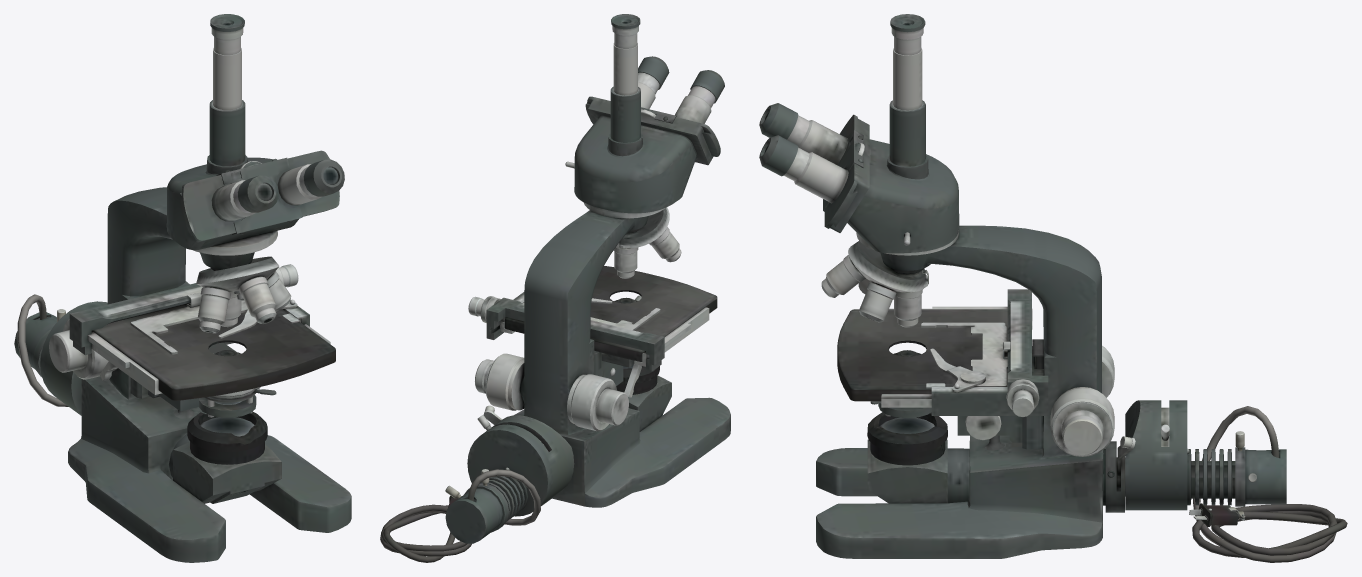
File: microscope.glb
The picture shows the model from 3 angles, left to right: view 1: azimuth 30°, elevation 25°; view 2: azimuth 150°, elevation 25°; view 3: azimuth 270°, elevation 25°; orthographic projection. The views are drawn at different scales.
Visible parts, largest first — view 1: industrial_microscope, industrial_microscope_cable; view 2: industrial_microscope, industrial_microscope_cable; view 3: industrial_microscope, industrial_microscope_cable.
Boxes of the visible parts, left/top/right/bottom form: industrial_microscope: left=14, top=14, right=351, bottom=562; industrial_microscope_cable: left=17, top=294, right=68, bottom=406; industrial_microscope: left=445, top=14, right=730, bottom=543; industrial_microscope_cable: left=380, top=469, right=540, bottom=562; industrial_microscope: left=759, top=14, right=1286, bottom=558; industrial_microscope_cable: left=1189, top=406, right=1347, bottom=562.
Bounding box in the file's own units: 0.2145 × 0.4617 × 0.4981.
Materials: 1 (1 with a texture image).
